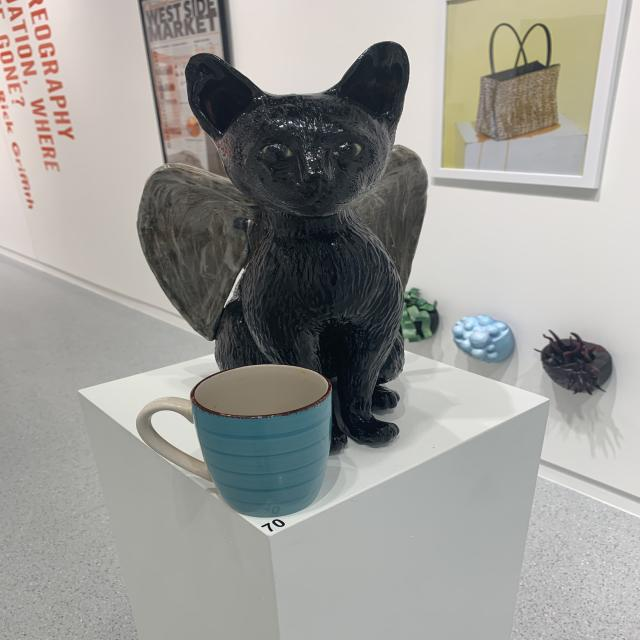Cup: (136, 358, 336, 520)
